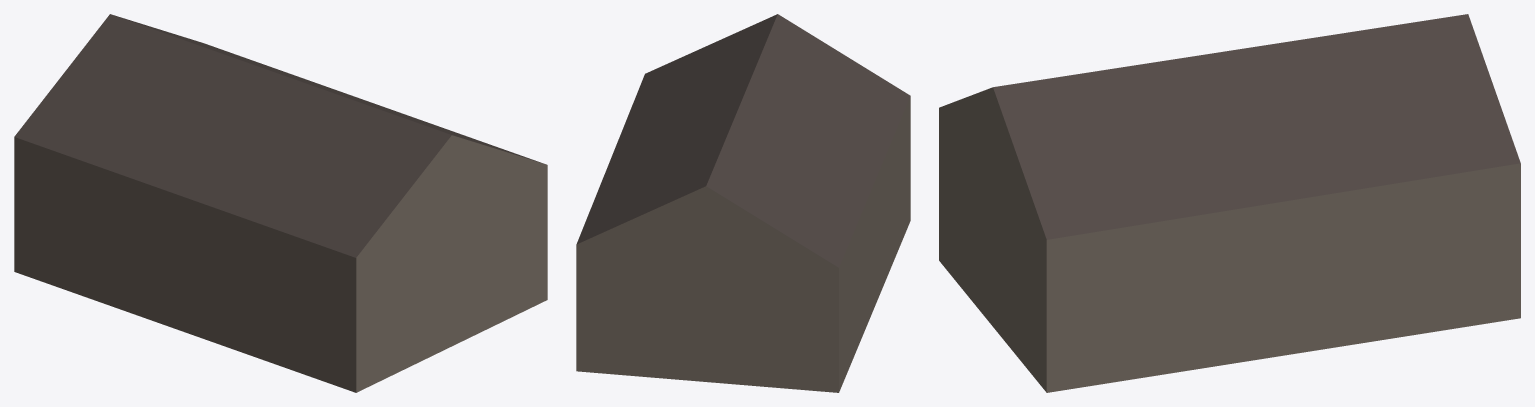
3 renders of one model, left to right at view 1: azimuth 30°, elevation 25°; view 2: azimuth 150°, elevation 25°; view 3: azimuth 270°, elevation 25°, orthographic. The views are drawn at different scales.
Parts seen in each view (by area): view 1: HP-w1198893548; view 2: HP-w1198893548; view 3: HP-w1198893548.
Boxes of the visible parts, bbox=[...] form: HP-w1198893548: bbox=[14, 14, 547, 392]; HP-w1198893548: bbox=[576, 14, 910, 392]; HP-w1198893548: bbox=[939, 14, 1520, 392].
Size of the model in its own units: 17.28 by 9.39 by 20.67.
